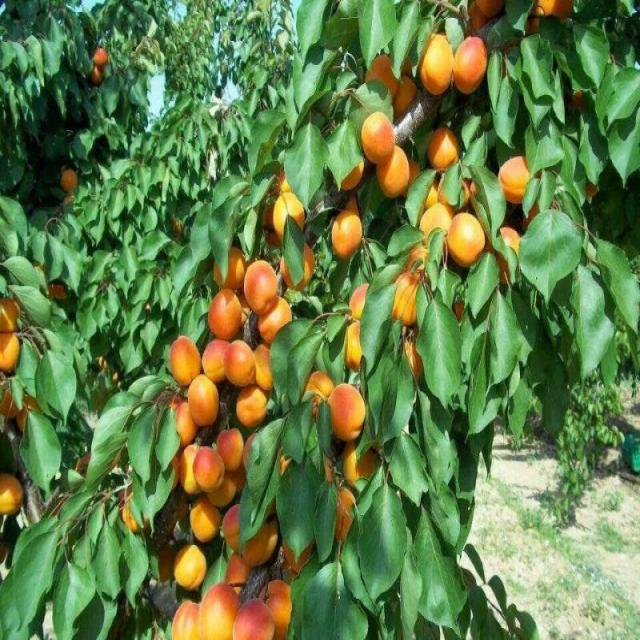kayisi: (180, 361, 212, 417), (224, 330, 253, 386), (246, 272, 275, 314)
yaprak: (39, 537, 96, 614), (373, 501, 420, 594)
